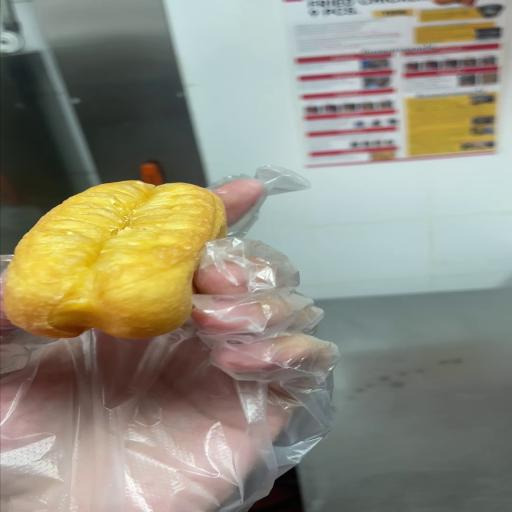brand_golden_good: (4, 181, 226, 338)
